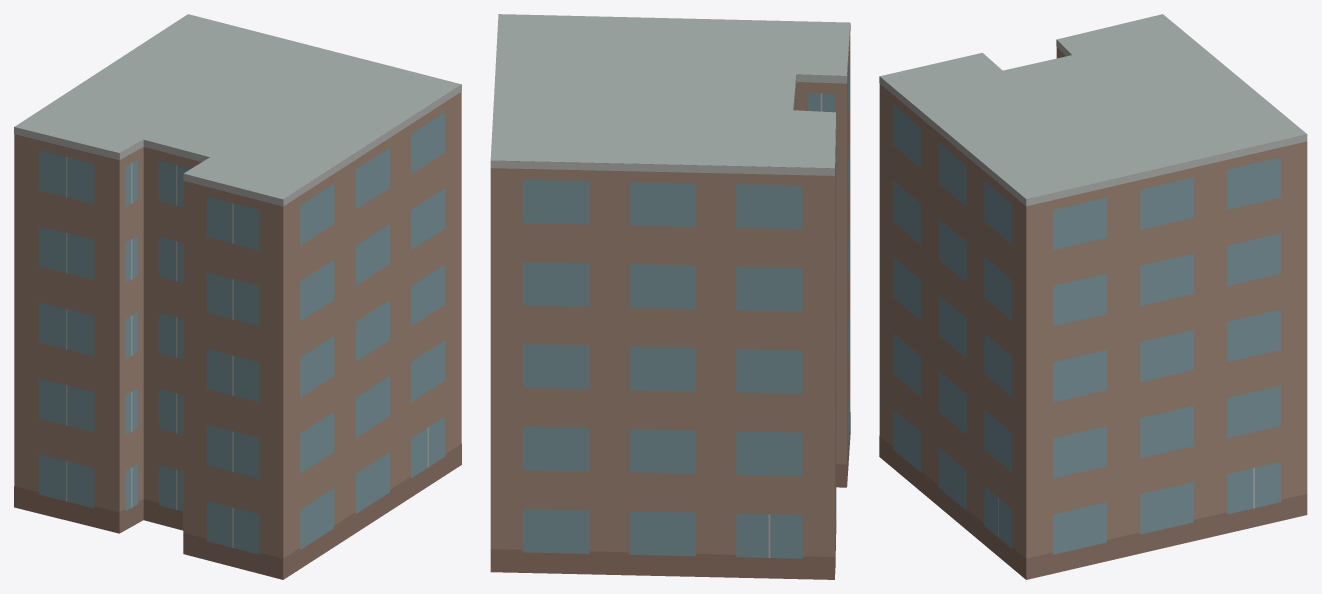
The model's file is survey-upis-32859726.glb.
3 views of the same model, side by side, from view 1: azimuth 30°, elevation 25°; view 2: azimuth 150°, elevation 25°; view 3: azimuth 270°, elevation 25° (orthographic). The views are drawn at different scales.
Visible parts, largest first — view 1: survey-upis-32859726.tmp; view 2: survey-upis-32859726.tmp; view 3: survey-upis-32859726.tmp.
Part boxes in pixels (box(x1,y1,x2,y2)): survey-upis-32859726.tmp: box(14, 14, 461, 579); survey-upis-32859726.tmp: box(490, 14, 850, 579); survey-upis-32859726.tmp: box(879, 14, 1307, 579).
Bounding box in the file's own units: 13.68 × 13.1 × 13.35.
